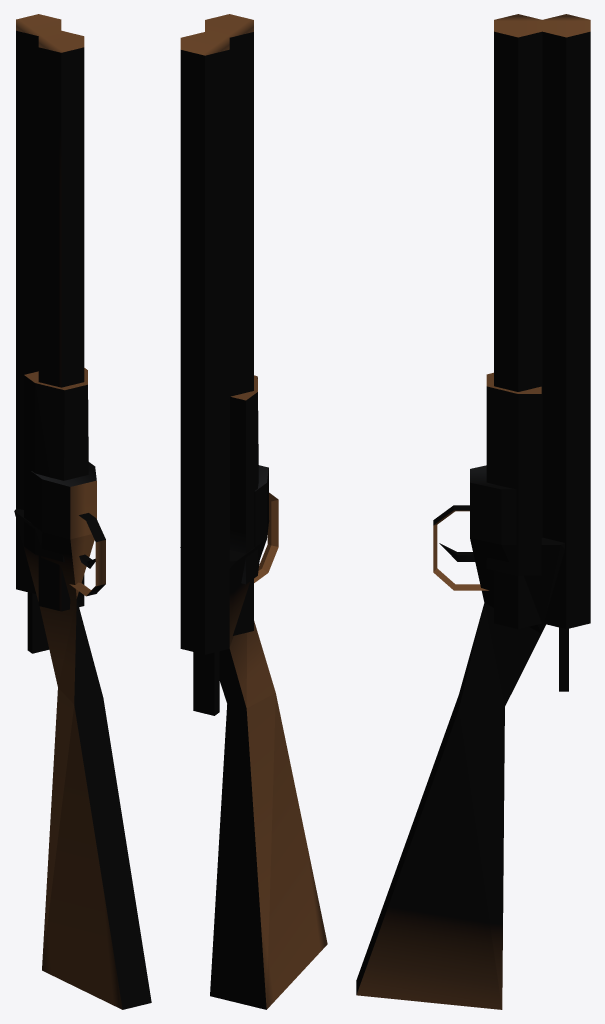
File: HenryBigBoy__Mount_ScopeBase.fbx
3 renders of one model, left to right at view 1: azimuth 30°, elevation 25°; view 2: azimuth 150°, elevation 25°; view 3: azimuth 270°, elevation 25°, orthographic. The views are drawn at different scales.
Visible parts, largest first — view 1: asset_HenryBigBoy.001; view 2: asset_HenryBigBoy.001; view 3: asset_HenryBigBoy.001.
Boxes of the visible parts, <box> form: asset_HenryBigBoy.001: <box>14,14,151,1009</box>; asset_HenryBigBoy.001: <box>180,14,327,1009</box>; asset_HenryBigBoy.001: <box>356,14,590,1009</box>.
Bounding box in the file's own units: 0.0356 × 0.582 × 0.1272.
